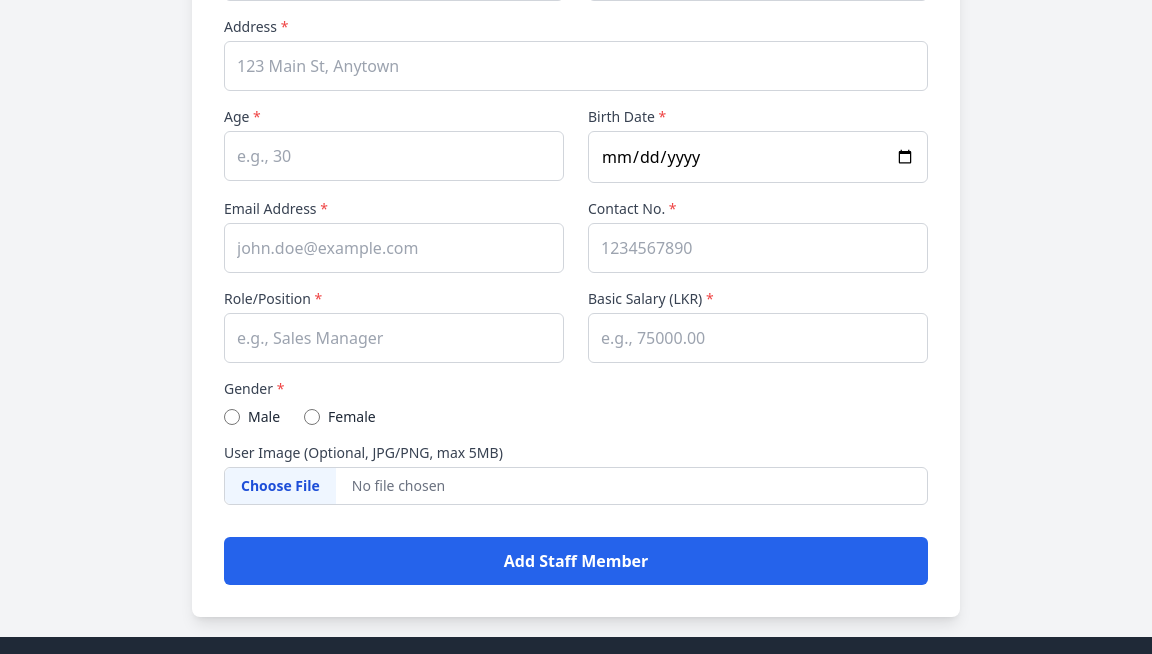
Test: Staff Page - Add Staff Form › should display validation errors for required fields when submitted empty
(page scrolled)
Click the submit button at coordinates (576, 561), box [224,537,928,585]
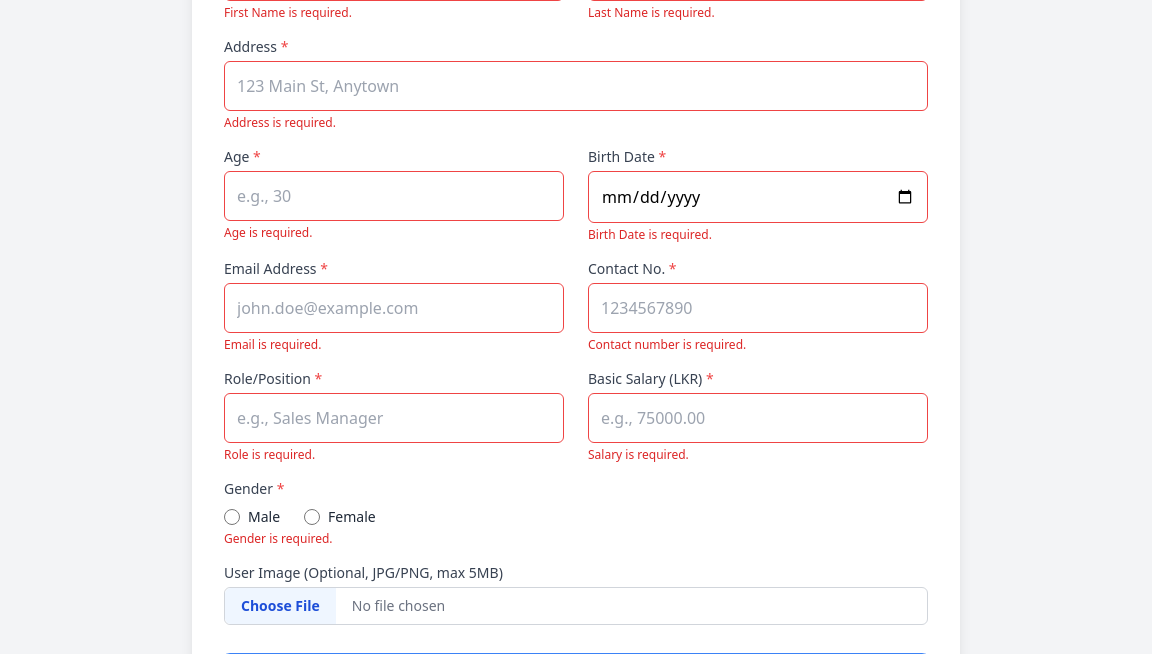
Now the text "First Name is required." is shown, box [224,4,352,21]
Now the text "Last Name is required." is shown, box [588,4,715,21]
Now the text "Address is required." is shown, box [224,114,336,131]
